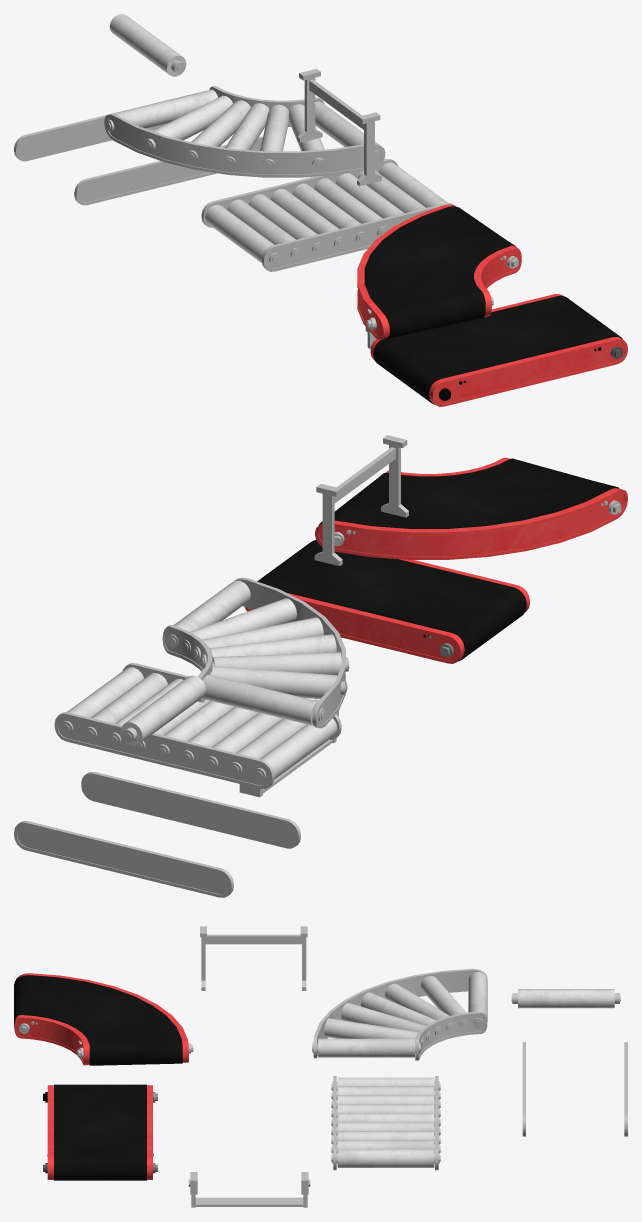
The model's file is ConveyorPack.fbx.
The picture shows the model from 3 angles, top to bottom: view 1: azimuth 30°, elevation 25°; view 2: azimuth 150°, elevation 25°; view 3: azimuth 270°, elevation 25°; orthographic projection. The views are drawn at different scales.
Parts seen in each view (by area): view 1: conveyorbelt.mo, conveyorbelt_b_corner.mo, conveyorbelt_corner.mo, conveyorbelt_b.mo, conveyorbelt_b_seperate_rail.mo, conveyorbelt_support.mo, conveyorbelt_b_seperate_roller.mo; view 2: conveyorbelt_corner.mo, conveyorbelt.mo, conveyorbelt_b_corner.mo, conveyorbelt_b.mo, conveyorbelt_b_seperate_rail.mo, conveyorbelt_support.mo, conveyorbelt_b_seperate_roller.mo, conveyor_support_b.mo; view 3: conveyorbelt_corner.mo, conveyorbelt_b_corner.mo, conveyorbelt.mo, conveyorbelt_b.mo, conveyorbelt_b_seperate_roller.mo, conveyorbelt_support.mo, conveyor_support_b.mo, conveyorbelt_b_seperate_rail.mo.
Part boxes in pixels (x1,y1,x2,y2): conveyorbelt.mo: [370, 294, 627, 406]; conveyorbelt_b_corner.mo: [104, 86, 385, 177]; conveyorbelt_corner.mo: [357, 204, 521, 339]; conveyorbelt_b.mo: [201, 159, 455, 271]; conveyorbelt_b_seperate_rail.mo: [14, 92, 262, 205]; conveyorbelt_support.mo: [297, 68, 381, 186]; conveyorbelt_b_seperate_roller.mo: [109, 14, 186, 76]; conveyorbelt_corner.mo: [315, 457, 627, 559]; conveyorbelt.mo: [244, 540, 529, 663]; conveyorbelt_b_corner.mo: [162, 577, 349, 728]; conveyorbelt_b.mo: [54, 663, 341, 788]; conveyorbelt_b_seperate_rail.mo: [14, 772, 300, 897]; conveyorbelt_support.mo: [314, 435, 408, 565]; conveyorbelt_b_seperate_roller.mo: [120, 675, 206, 745]; conveyor_support_b.mo: [239, 699, 338, 797]; conveyorbelt_corner.mo: [14, 973, 193, 1065]; conveyorbelt_b_corner.mo: [312, 968, 487, 1060]; conveyorbelt.mo: [43, 1084, 157, 1180]; conveyorbelt_b.mo: [331, 1076, 440, 1170]; conveyorbelt_b_seperate_roller.mo: [511, 989, 620, 1008]; conveyorbelt_support.mo: [200, 926, 307, 990]; conveyor_support_b.mo: [188, 1172, 310, 1207]; conveyorbelt_b_seperate_rail.mo: [522, 1042, 627, 1136].
Bounding box in the file's own units: 243 × 248 × 562.
